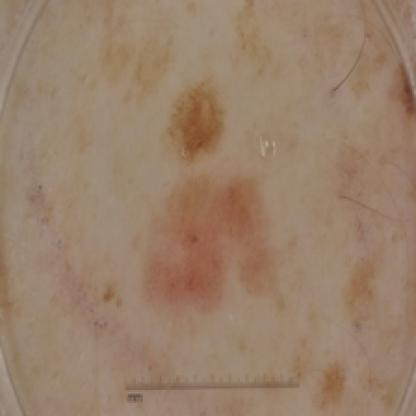malignant: (134, 72, 276, 308)
